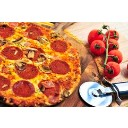pepperonipizza: (1, 20, 81, 103)
